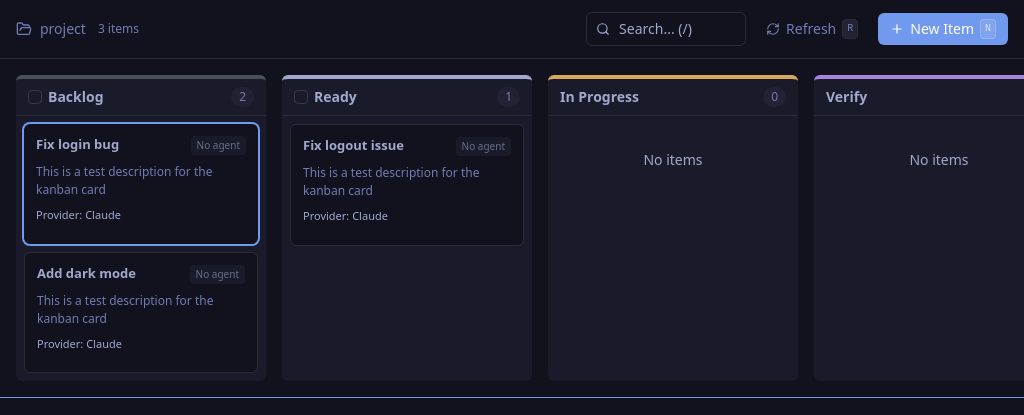
Test case: KanbanView › should filter cards by title when searching
The width and height of the screenshot is (1024, 415).
Expected: the number of buttons with test id "kanban-card" is 3, [24,124,258,244]; [24,252,258,373]; [290,124,524,246]
# Type "Fix" in search
Type "Fix" into the field with test id "search-input" at x=666, y=29, box [586,12,746,46]
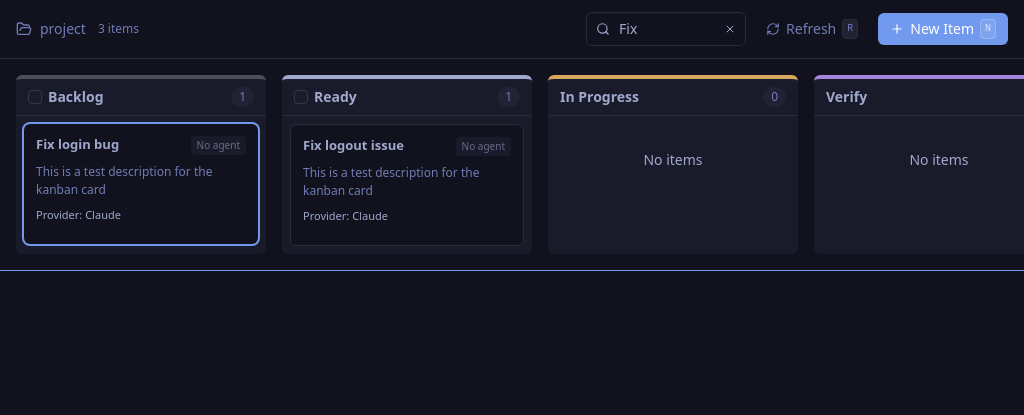
Expected: the heading "Fix login bug" is shown, [36,136,119,152]
Expected: the number of buttons with test id "kanban-card" is 2, [24,124,258,244]; [290,124,524,246]
Expected: the button "Add dark mode" is gone
